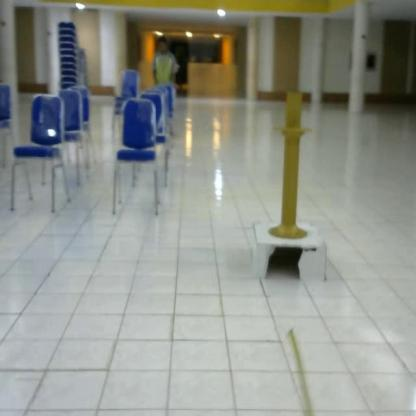pole: (261, 84, 321, 243)
